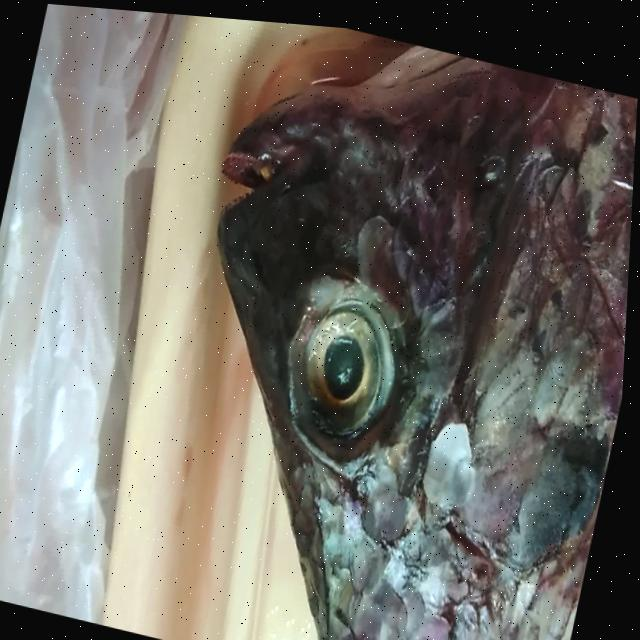Non-Fresh: (364, 48, 639, 640), (270, 282, 437, 468)
